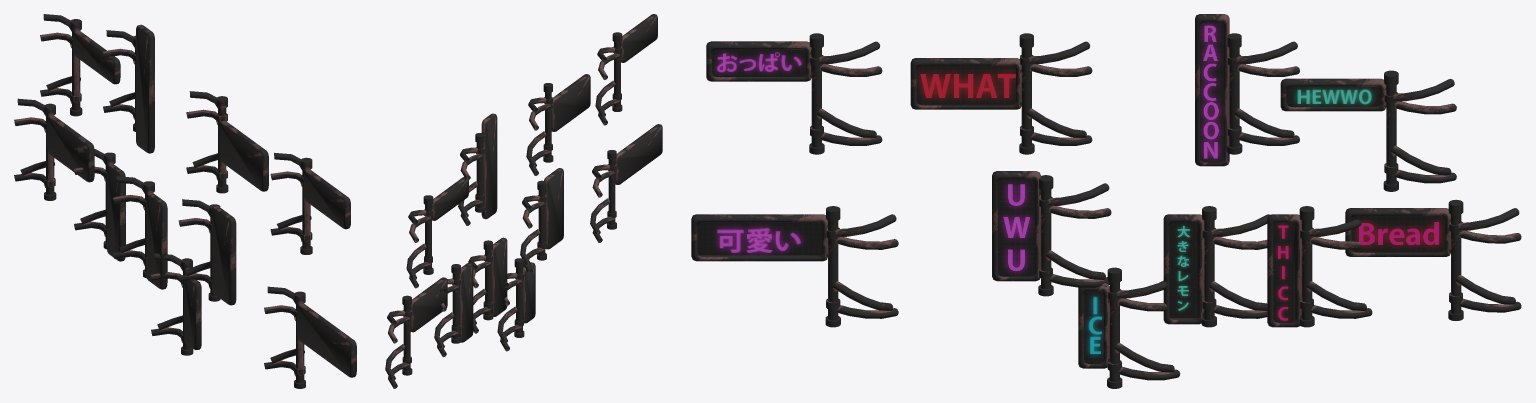
File: Screens.fbx
3 views of the same model, side by side, from view 1: azimuth 30°, elevation 25°; view 2: azimuth 150°, elevation 25°; view 3: azimuth 270°, elevation 25° (orthographic). The views are drawn at different scales.
Visible parts, largest first — view 1: Cube.001, Cube.006, Cube, Cube.010, Cube.007, Cube.008, Cube.002, Cube.004, Cube.003, Cube.009; view 2: Cube.001, Cube.006, Cube.007, Cube.010, Cube, Cube.008, Cube.002, Cube.003, Cube.004, Cube.009; view 3: Cube.001, Cube.006, Cube.010, Cube.007, Cube, Cube.008, Cube.002, Cube.003, Cube.004, Cube.009.
Boxes of the visible parts, left/top/right/bottom form: Cube.001: left=264, top=286, right=356, bottom=388; Cube.006: left=186, top=91, right=268, bottom=193; Cube: left=14, top=98, right=94, bottom=200; Cube.010: left=178, top=199, right=236, bottom=305; Cube.007: left=103, top=24, right=154, bottom=153; Cube.008: left=270, top=152, right=350, bottom=254; Cube.002: left=113, top=176, right=167, bottom=289; Cube.004: left=40, top=14, right=120, bottom=116; Cube.003: left=74, top=147, right=125, bottom=261; Cube.009: left=151, top=253, right=201, bottom=355; Cube.001: left=590, top=124, right=662, bottom=242; Cube.006: left=526, top=74, right=590, bottom=175; Cube.007: left=458, top=113, right=497, bottom=225; Cube.010: left=520, top=168, right=563, bottom=273; Cube: left=385, top=277, right=447, bottom=388; Cube.008: left=595, top=14, right=657, bottom=125; Cube.002: left=468, top=237, right=507, bottom=333; Cube.003: left=434, top=262, right=473, bottom=357; Cube.004: left=406, top=177, right=468, bottom=288; Cube.009: left=497, top=258, right=535, bottom=351; Cube.001: left=691, top=206, right=898, bottom=327; Cube.006: left=910, top=33, right=1092, bottom=154; Cube.010: left=992, top=171, right=1111, bottom=296; Cube.007: left=1195, top=14, right=1299, bottom=166; Cube: left=1345, top=199, right=1521, bottom=320; Cube.008: left=706, top=33, right=882, bottom=154; Cube.002: left=1163, top=206, right=1269, bottom=327; Cube.003: left=1267, top=206, right=1372, bottom=327; Cube.004: left=1280, top=70, right=1456, bottom=191; Cube.009: left=1078, top=267, right=1180, bottom=388.
Bounding box in the file's own units: 24.8 × 292 × 595.
